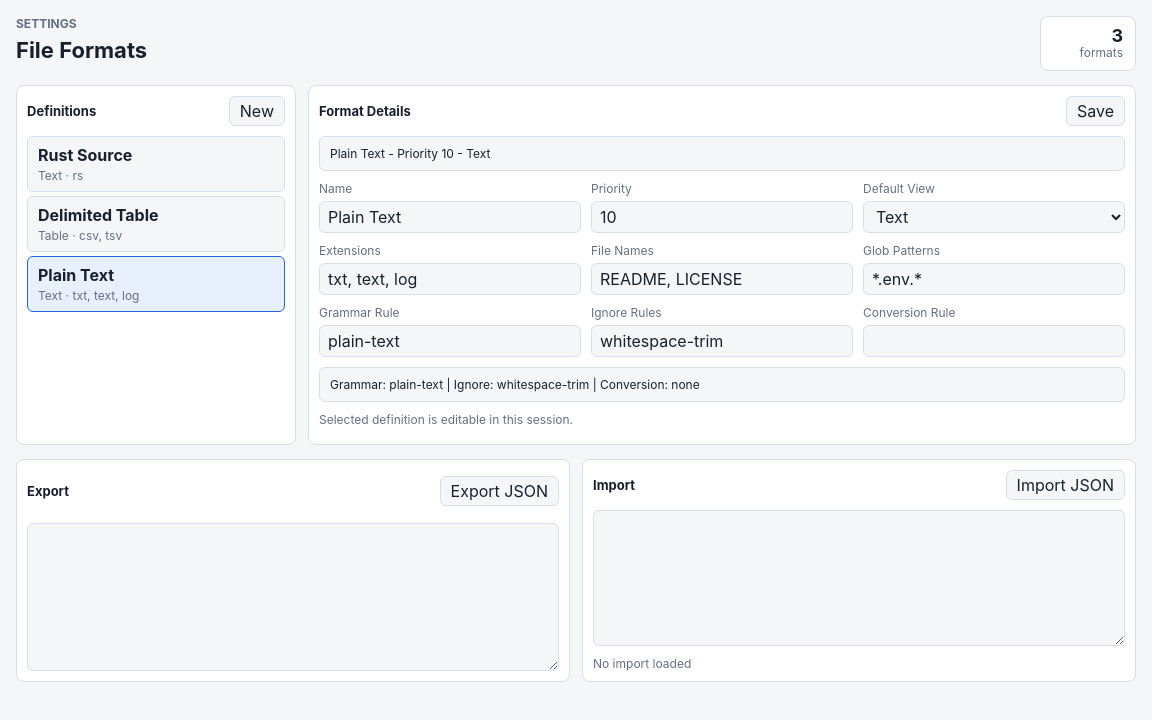
Test: FileFormatView › creates a custom format from form values
The image size is (1152, 720).
Click the button with test id "new-format" at (257, 111), box 229,96 -> 285,126
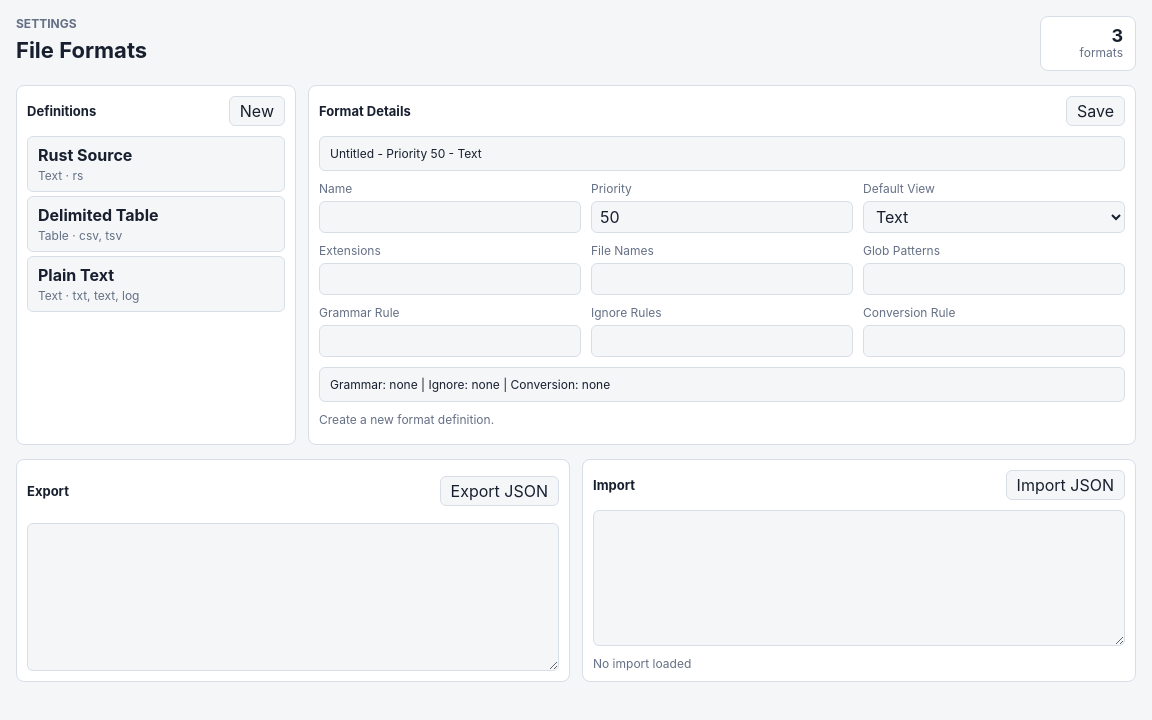
Type "Build Manifest" into the field with test id "format-name-input" at (450, 217), box 319,201 -> 581,233
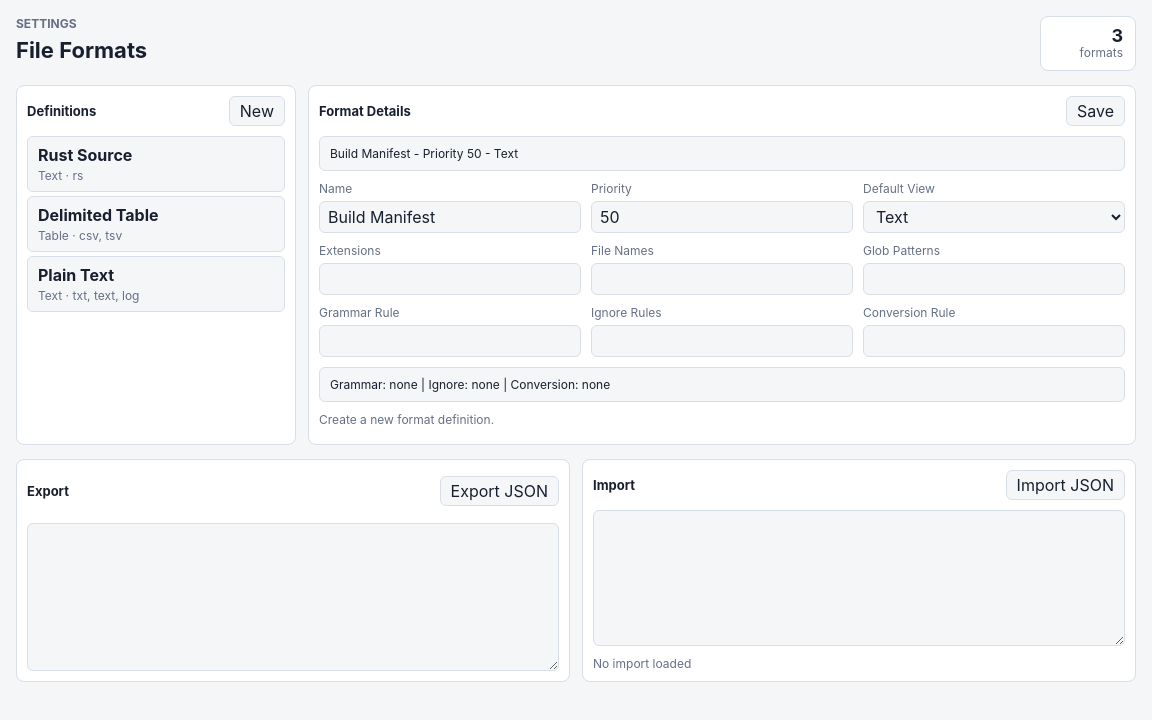
Type "toml, lock" into the field with test id "format-extension-input" at (450, 279), box 319,263 -> 581,295
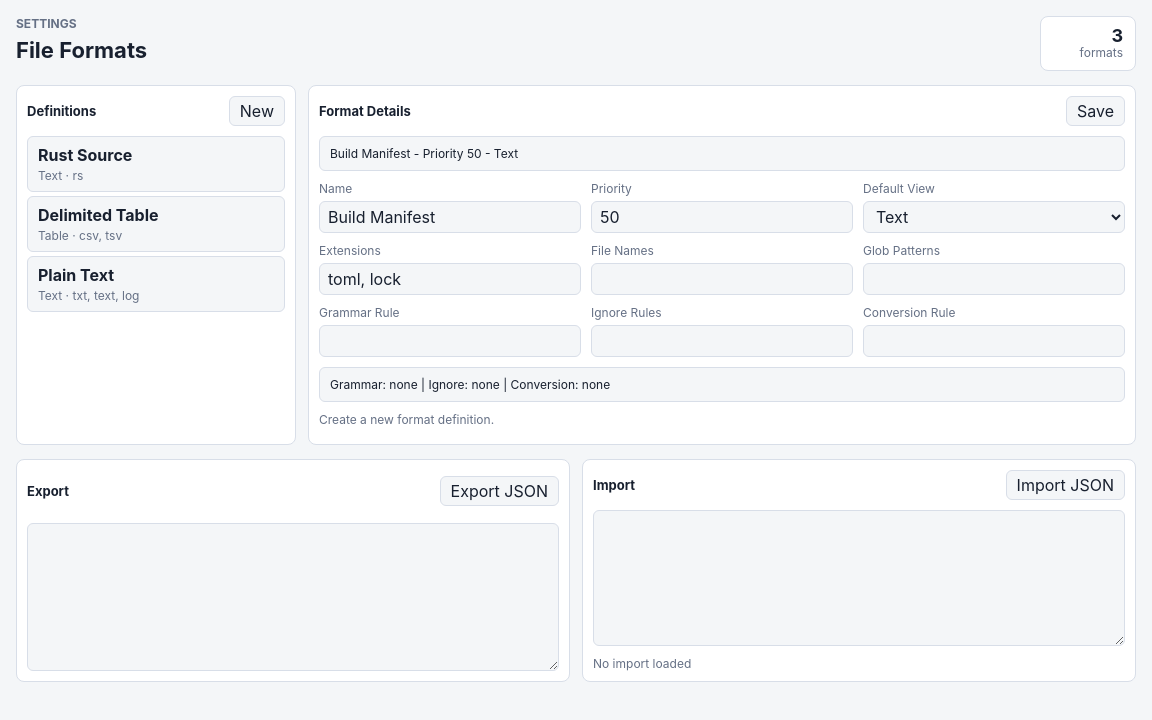
Replace the text in the number field with test id "format-priority-input" with "88" at (722, 217), box 591,201 -> 853,233
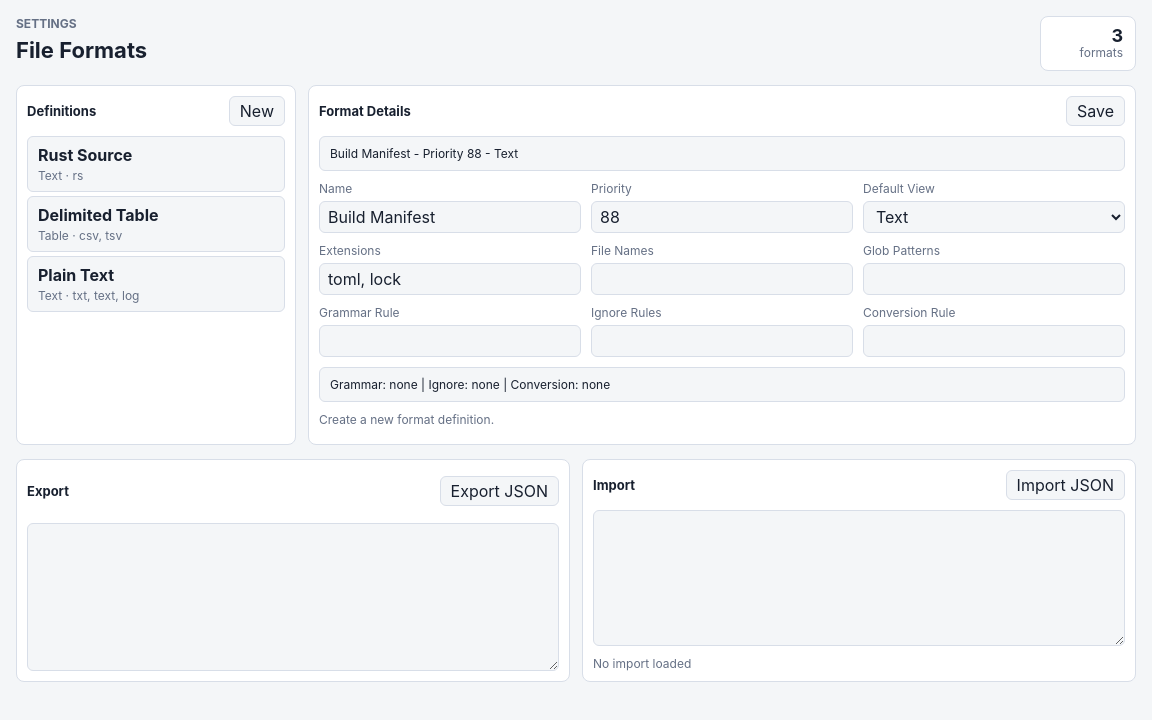
Select "Text" in the dropdown with test id "format-view-select" at (994, 217), box 863,201 -> 1125,233
Type "comments" into the field with test id "format-ignore-input" at (722, 341), box 591,325 -> 853,357
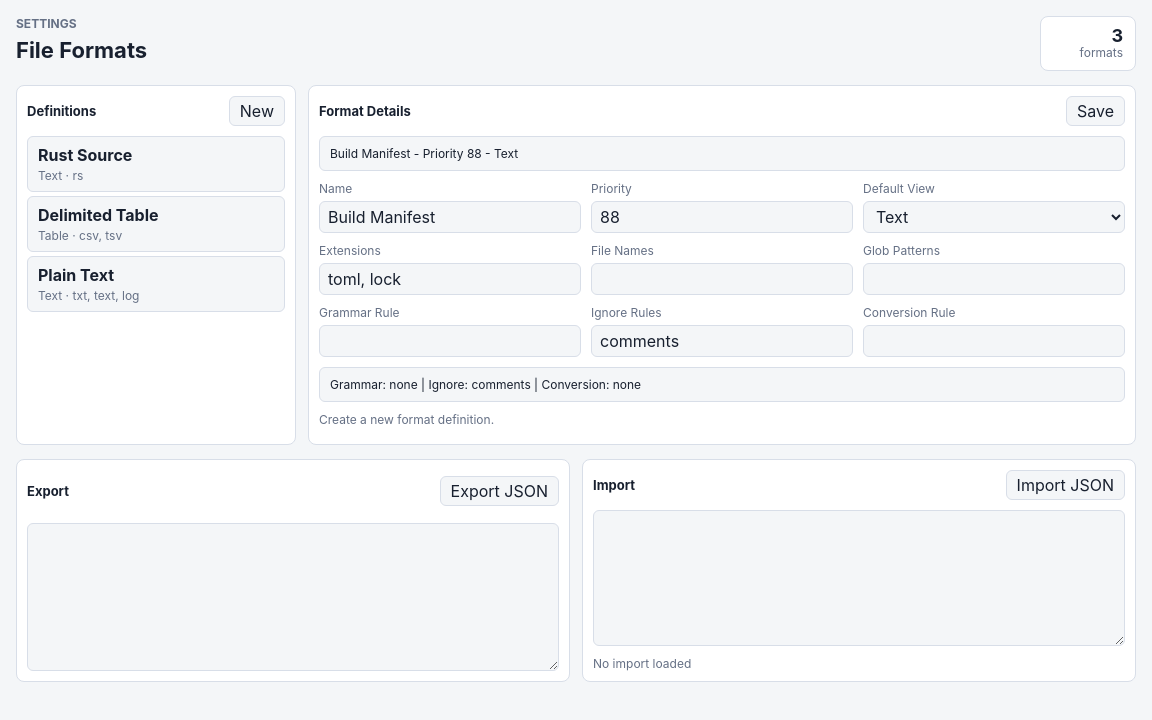
Click the button with test id "save-format" at (1096, 111), box 1066,96 -> 1125,126
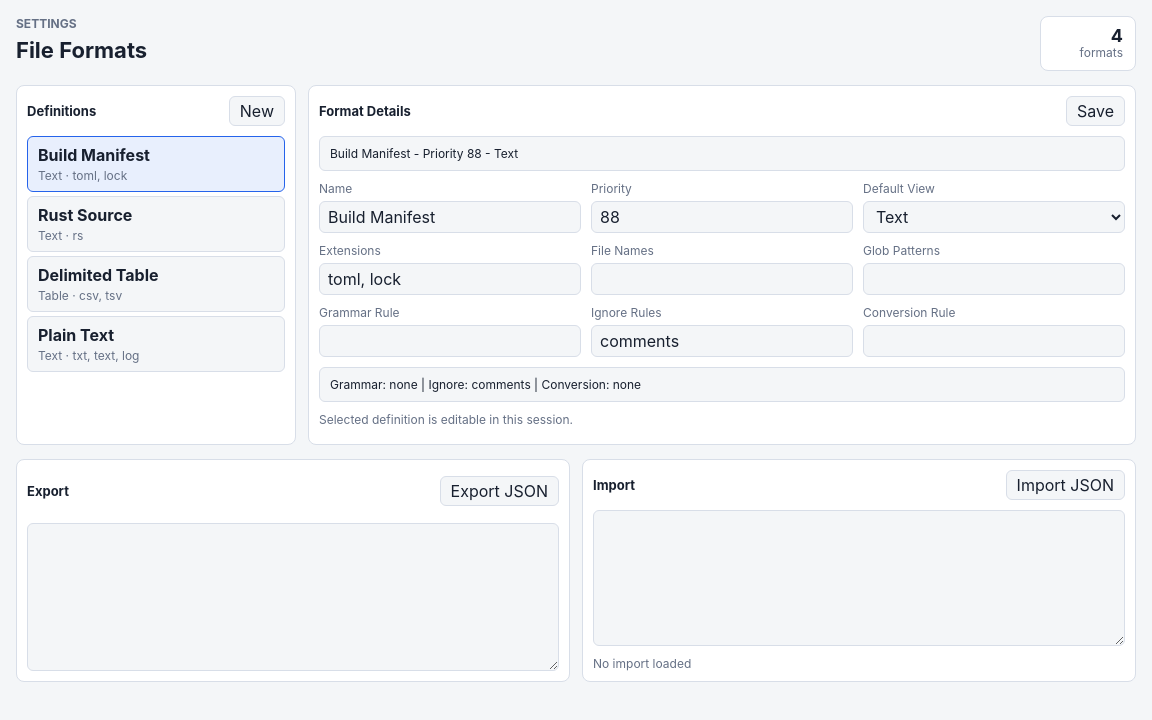
Expected: the text with test id "selected-format-summary" shows "Priority 88", 330,146 -> 518,161
Expected: the text with test id "format-rule-summary" shows "Ignore: comments", 330,377 -> 641,392
Expected: the element with test id "format-list" shows "Build Manifest", 27,136 -> 285,192
